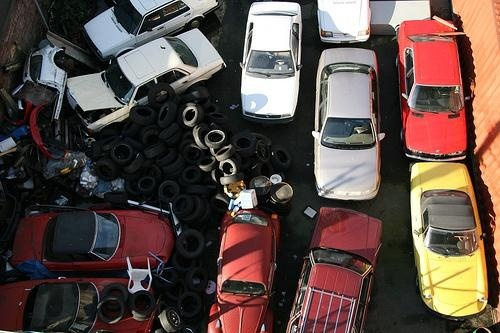car: (64, 26, 231, 137), (408, 160, 493, 321), (282, 205, 387, 333), (312, 46, 389, 203), (395, 18, 476, 163), (8, 207, 180, 275), (206, 207, 284, 333), (1, 276, 163, 333), (80, 1, 224, 63), (237, 1, 306, 123), (10, 43, 71, 124), (315, 1, 374, 46)
chair: (124, 253, 157, 298)
